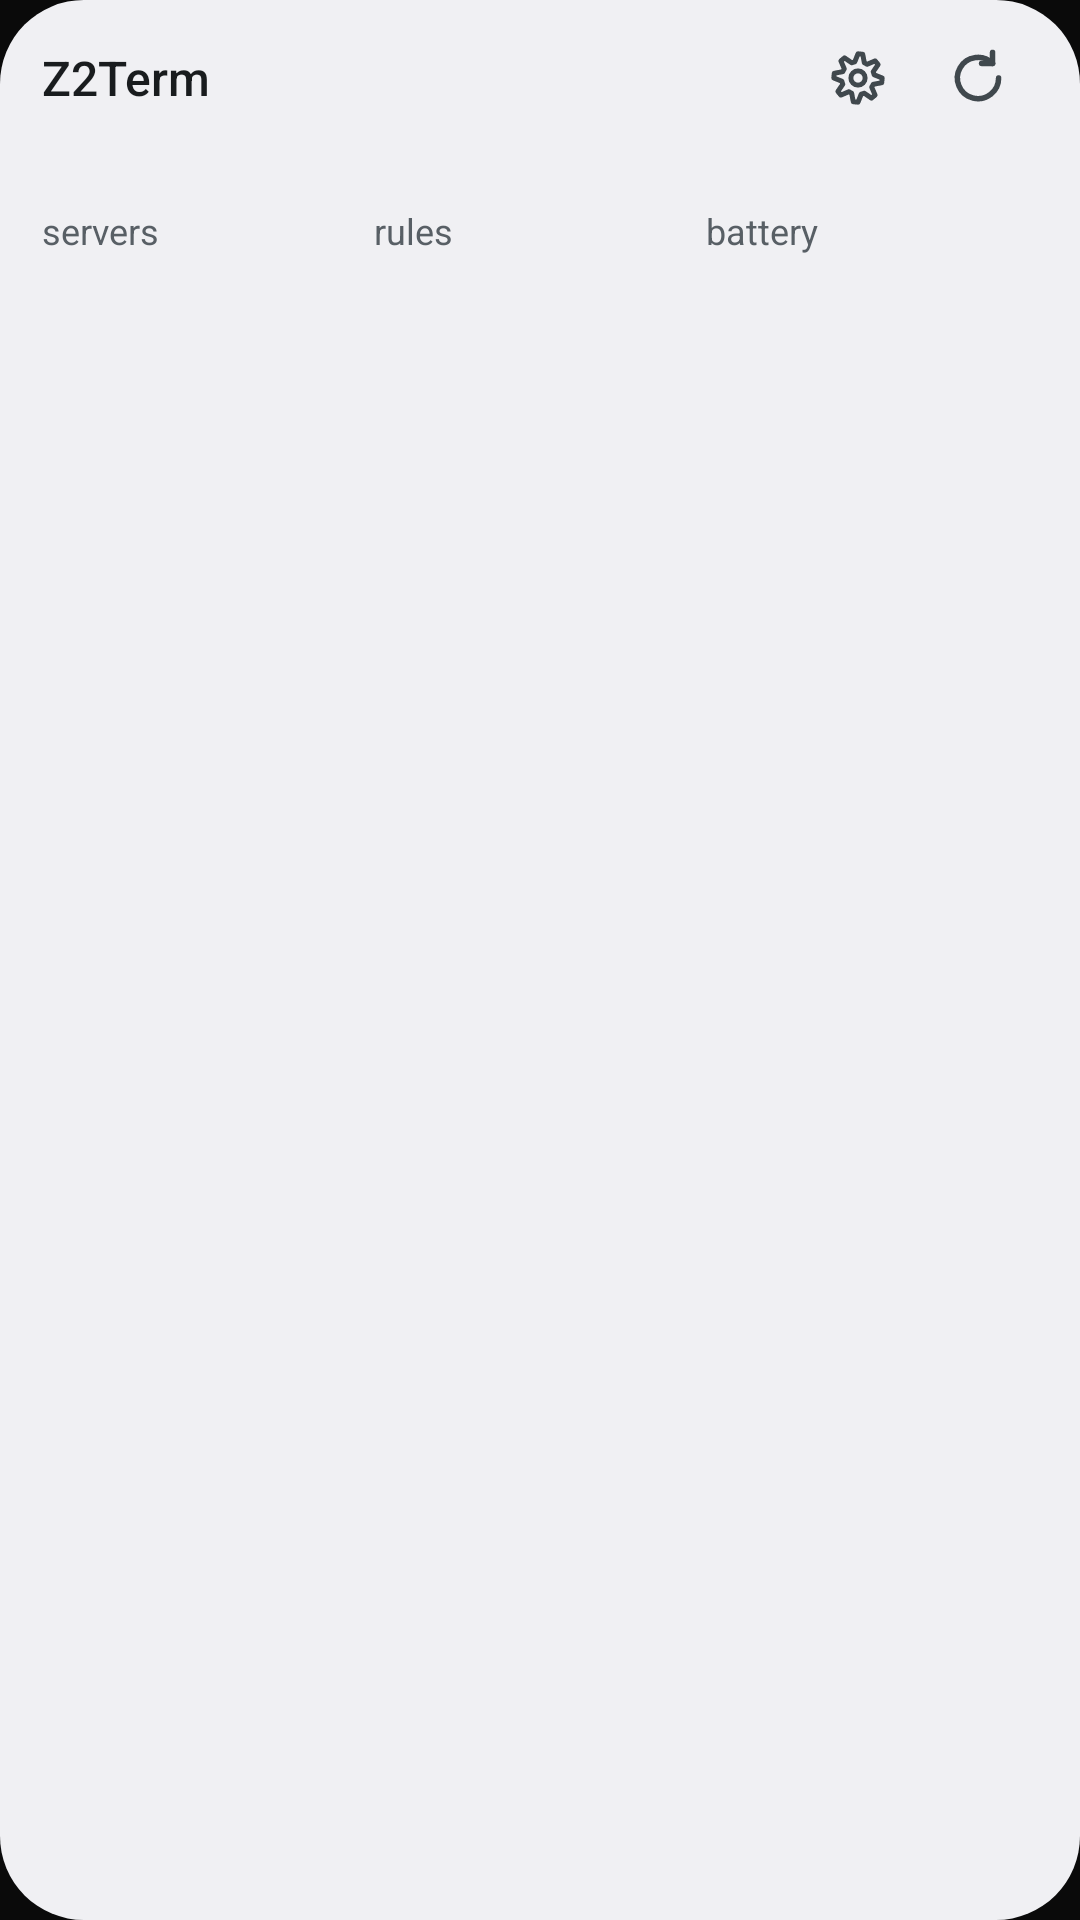

Screen size 1080px x 1920px. Icon name, then its center in pixels as [x,y]:
Refresh: [978,75]
